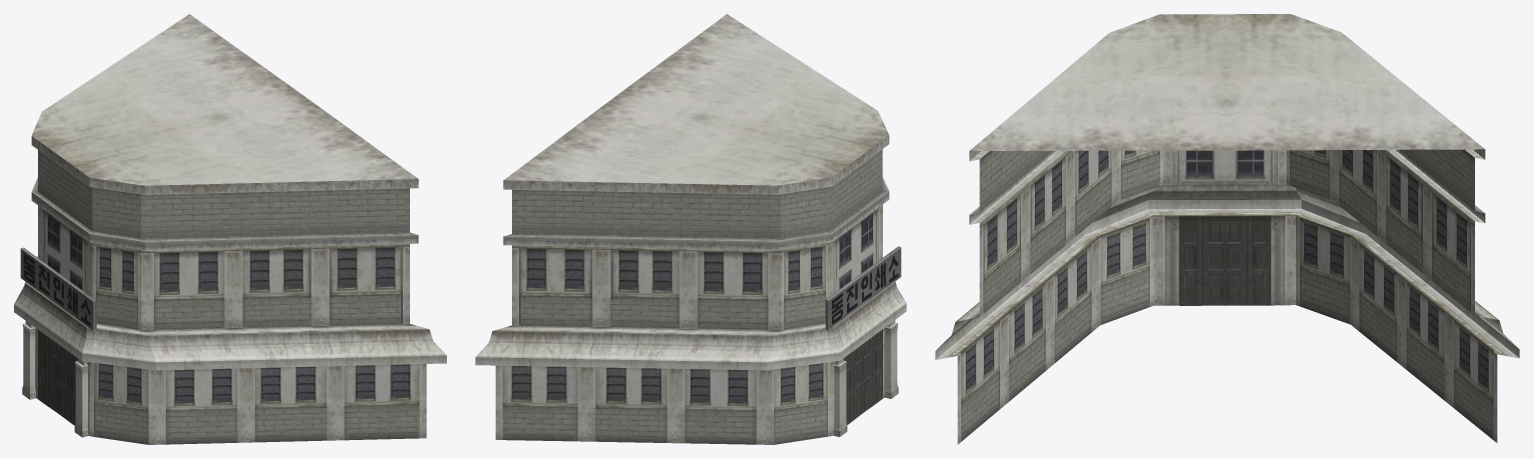
File: public_office.FBX
3 renders of one model, left to right at view 1: azimuth 30°, elevation 25°; view 2: azimuth 150°, elevation 25°; view 3: azimuth 270°, elevation 25°, orthographic. The views are drawn at different scales.
Visible parts, largest first — view 1: Box002; view 2: Box002; view 3: Box002.
Boxes of the visible parts, x1,y1,x2,y2 form: Box002: (14, 14, 446, 444); Box002: (475, 14, 906, 444); Box002: (935, 14, 1519, 444).
Bounding box in the file's own units: 87.82 × 79.28 × 143.
Materials: 1 (1 with a texture image).
